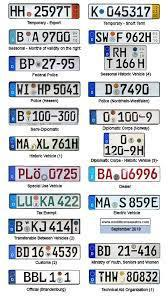0: (48, 168, 56, 180), (63, 31, 71, 43), (103, 110, 110, 123), (142, 83, 149, 96), (107, 5, 114, 17), (124, 111, 131, 123), (121, 168, 128, 180), (38, 111, 45, 122), (45, 110, 51, 122), (64, 110, 70, 122), (70, 110, 76, 122), (132, 111, 138, 123), (57, 31, 63, 43), (60, 83, 66, 95), (121, 134, 127, 145), (117, 145, 123, 156), (133, 271, 139, 282)
1: (117, 110, 124, 123), (144, 244, 151, 257), (72, 83, 79, 96), (136, 5, 143, 17), (56, 220, 63, 232), (124, 245, 131, 257), (31, 246, 38, 258), (49, 271, 56, 283), (64, 138, 71, 149), (64, 272, 71, 283), (115, 58, 122, 69), (32, 110, 38, 122), (104, 145, 111, 155)
2: (71, 195, 79, 207), (64, 167, 71, 180), (64, 196, 72, 207), (41, 58, 49, 69), (138, 32, 145, 44), (118, 244, 124, 257), (34, 5, 40, 17), (111, 145, 117, 156), (152, 271, 158, 282)
3: (129, 5, 136, 17), (57, 110, 64, 122), (145, 271, 152, 282), (65, 246, 71, 258)
4: (64, 220, 71, 233), (49, 220, 56, 233), (127, 83, 134, 96), (57, 195, 64, 207), (52, 246, 59, 258), (66, 83, 73, 95), (138, 244, 144, 257), (115, 5, 121, 17)
5: (41, 5, 49, 17), (121, 5, 129, 17), (70, 168, 78, 180), (58, 246, 65, 258), (68, 58, 75, 70), (53, 83, 60, 95), (136, 197, 143, 208)
6: (128, 168, 135, 180), (150, 245, 157, 257), (58, 138, 65, 149), (38, 246, 45, 257), (151, 168, 157, 180), (132, 31, 138, 43), (129, 57, 135, 69), (123, 58, 129, 68)
7: (56, 5, 63, 18), (143, 5, 150, 17), (56, 168, 63, 180), (49, 31, 56, 43), (49, 58, 56, 70), (120, 83, 127, 95), (52, 138, 58, 149)
8: (128, 196, 136, 208), (139, 271, 145, 282), (126, 271, 132, 282)
9: (41, 31, 49, 43), (134, 83, 142, 95), (125, 31, 132, 44), (49, 5, 56, 17), (143, 167, 150, 179), (61, 58, 68, 70), (136, 168, 143, 179), (143, 197, 150, 208), (71, 246, 78, 257), (146, 111, 152, 122), (130, 145, 136, 156)
A: (103, 197, 111, 209), (106, 168, 113, 181), (48, 195, 55, 207), (32, 31, 39, 43), (23, 138, 29, 149)
B: (15, 220, 24, 232), (17, 110, 25, 122), (97, 168, 105, 180), (23, 271, 31, 283), (97, 244, 104, 257), (16, 245, 23, 257), (32, 271, 39, 283), (17, 31, 24, 43), (20, 58, 27, 70)
D: (104, 83, 113, 95), (22, 245, 30, 258), (103, 245, 111, 257)
E: (151, 197, 159, 208)
F: (116, 31, 123, 43)
H: (10, 4, 18, 20), (18, 3, 25, 18), (104, 270, 112, 283), (71, 137, 78, 150), (137, 58, 145, 69), (37, 83, 44, 95), (119, 47, 127, 57), (145, 32, 152, 43), (137, 145, 143, 156)
I: (23, 83, 30, 95)
J: (39, 220, 47, 232)
K: (91, 5, 99, 18), (31, 220, 39, 232), (40, 194, 47, 207)
L: (25, 167, 33, 180), (17, 195, 25, 207), (39, 272, 47, 282), (43, 138, 50, 149)
M: (95, 196, 103, 209), (16, 137, 23, 150)
P: (17, 167, 25, 180), (27, 57, 35, 70), (44, 83, 51, 95)
R: (112, 47, 119, 57)
S: (119, 196, 127, 208), (95, 31, 102, 43)
T: (63, 5, 71, 17), (98, 271, 104, 283), (106, 58, 113, 68)
U: (25, 194, 33, 207)
W: (102, 31, 109, 43), (16, 83, 23, 95), (112, 271, 118, 283)
X: (36, 138, 43, 149)
oe: (34, 166, 40, 180)
